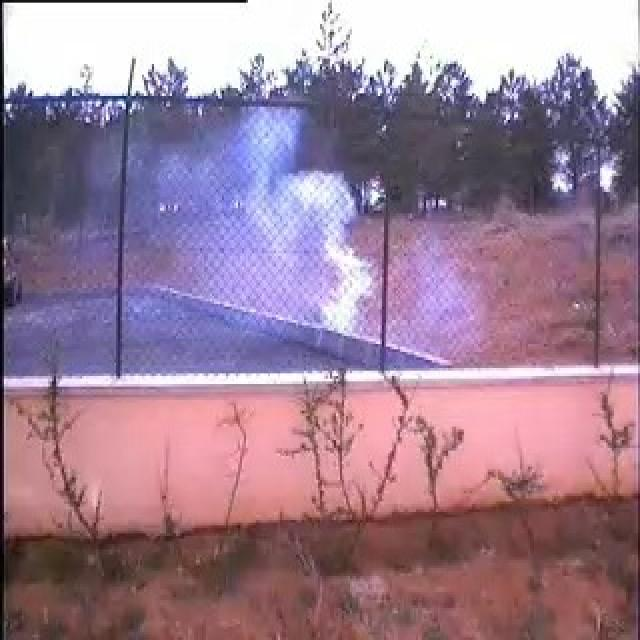smoke: (121, 90, 383, 367)
